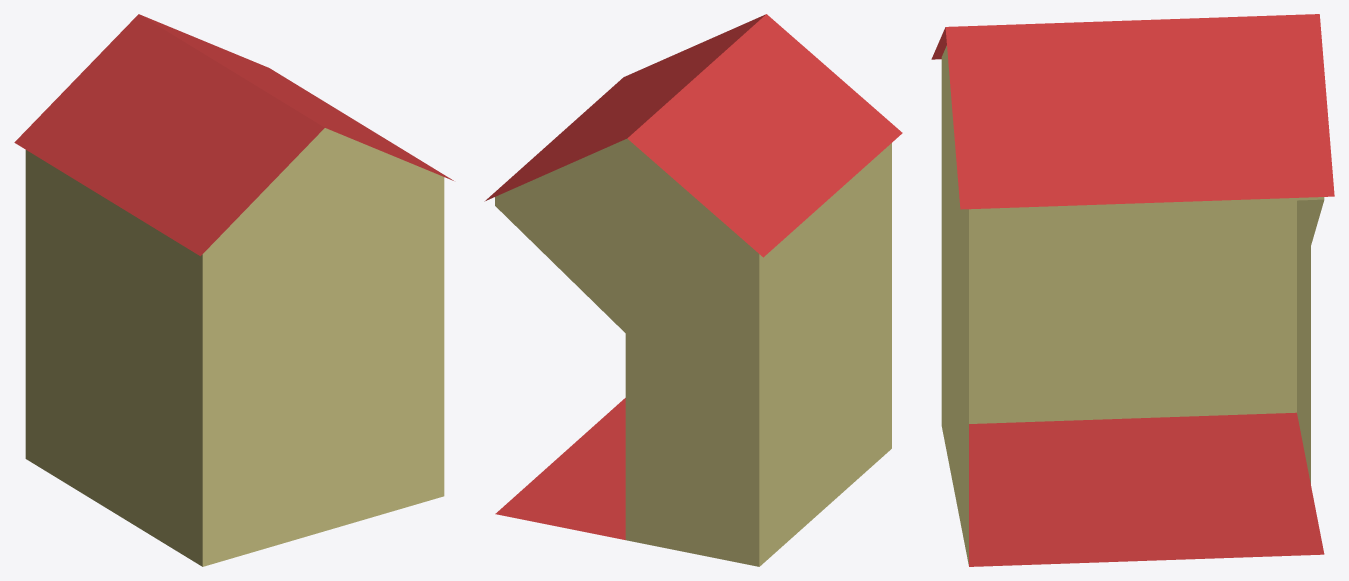
The picture shows the model from 3 angles, left to right: view 1: azimuth 30°, elevation 25°; view 2: azimuth 150°, elevation 25°; view 3: azimuth 270°, elevation 25°; orthographic projection. The views are drawn at different scales.
Bounding box in the file's own units: 10.17 × 10.64 × 13.62.
